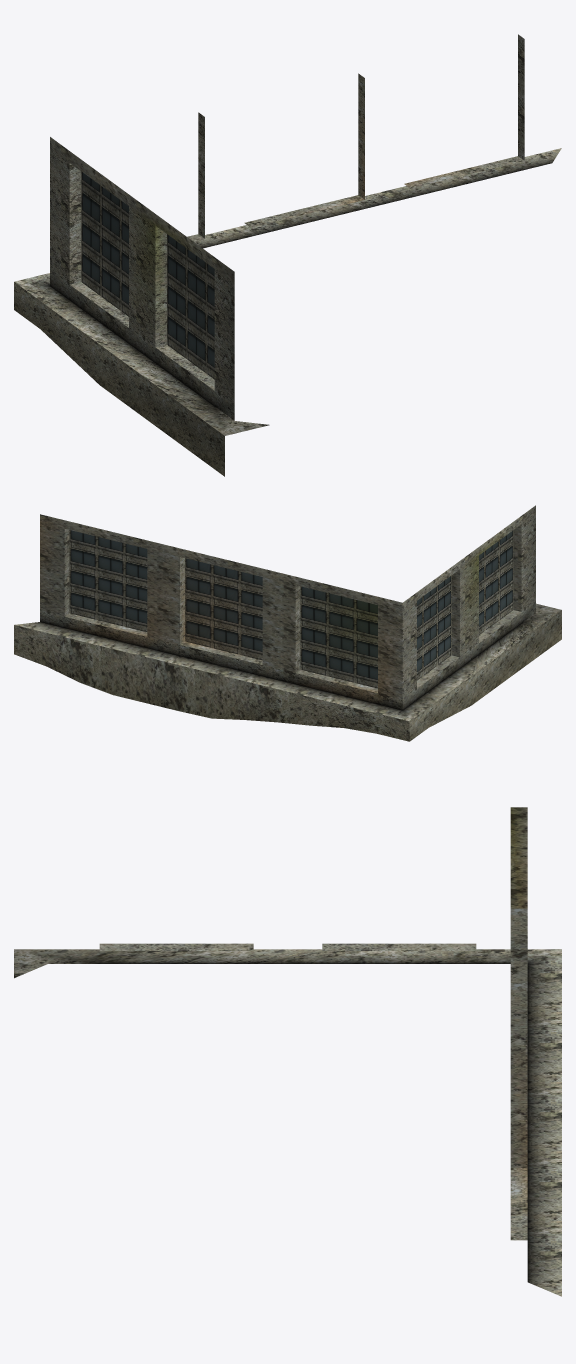
Rendered from M10_Z02_09_Tower.glb.
The picture shows the model from 3 angles, top to bottom: view 1: azimuth 30°, elevation 25°; view 2: azimuth 150°, elevation 25°; view 3: azimuth 270°, elevation 25°; orthographic projection. The views are drawn at different scales.
Visible parts, largest first — view 1: M10_Z02_09_TOWER; view 2: M10_Z02_09_TOWER; view 3: M10_Z02_09_TOWER.
Boxes of the visible parts, <box> form: M10_Z02_09_TOWER: <box>14,34,561,476</box>; M10_Z02_09_TOWER: <box>14,505,561,741</box>; M10_Z02_09_TOWER: <box>14,807,561,1296</box>.
Size of the model in its own units: 48 by 17.83 by 32.
2 materials, 2 textured.
